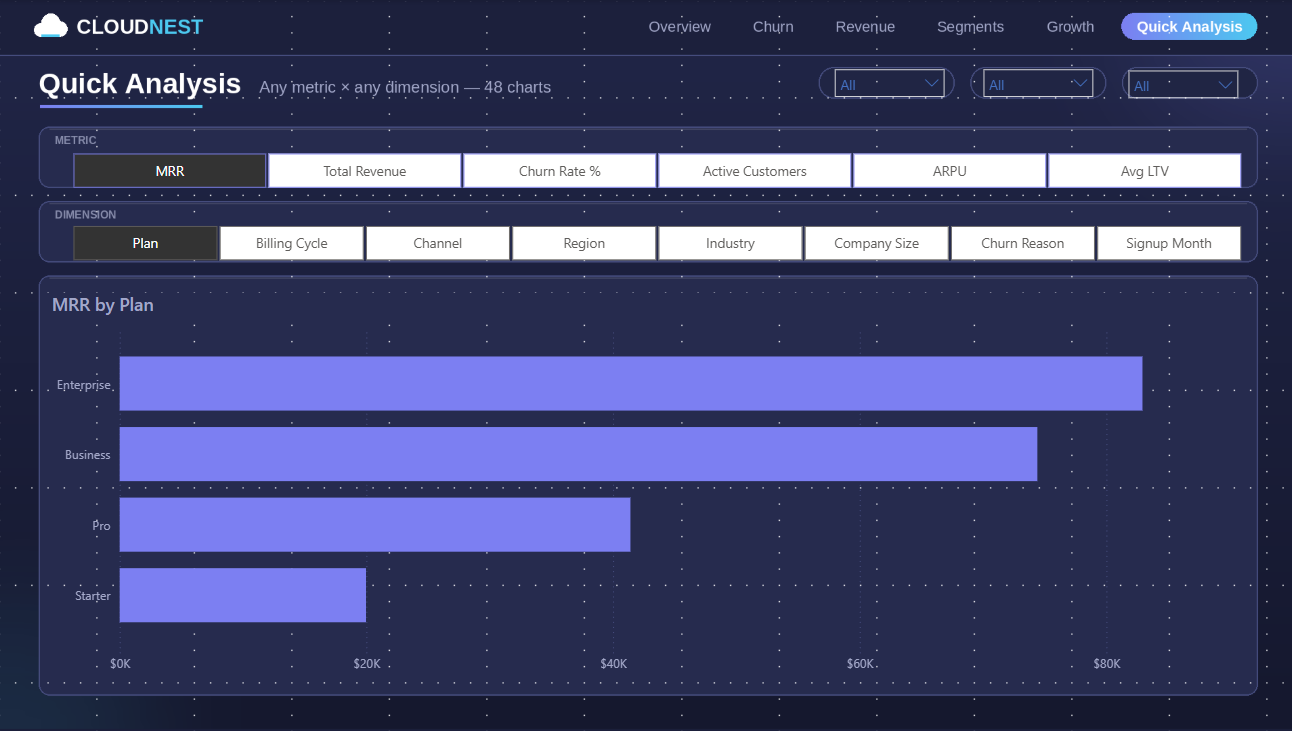

This screenshot's page, from the dashboard's own definition file:
{"tool":"powerbi","page":{"name":"Quick Analysis","canvas":[1280,720],"ordinal":6},"visuals":[{"type":"actionButton","box":[728.9,8.5,80,32],"z":0},{"type":"actionButton","box":[817.9,9.5,80,32],"z":1000},{"type":"actionButton","box":[919.9,9.5,80,32],"z":2000},{"type":"actionButton","box":[632.9,13.5,80,32],"z":3000},{"type":"actionButton","box":[1008,16,96,32],"z":4000},{"type":"slicer","fields":{"Values":["Metric.Metric"]},"box":[48,144,1200,48],"z":5000},{"type":"slicer","fields":{"Values":["Dimension.Dimension"]},"box":[48,215,1200,48],"z":6000},{"type":"clusteredBarChart","fields":{"Category":["plans.plan_name"],"Y":["_Measures.MRR"]},"box":[48,288,1184,384],"z":7000},{"type":"slicer","fields":{"Values":["customers.region"]},"box":[814,58,128,64],"z":8000},{"type":"slicer","fields":{"Values":["customers.industry"]},"box":[960,58,128,64],"z":9000},{"type":"slicer","fields":{"Values":["subscriptions.billing_cycle"]},"box":[1103,59,128,63],"z":10000}]}

Visuals, with their boxes in screenshot pixels (x1, y1, x2, y2), scaled from the page's 1280x720 canvas onto the 1292x731 screenshot:
actionButton: (x1=736, y1=9, x2=816, y2=41)
actionButton: (x1=826, y1=10, x2=906, y2=42)
actionButton: (x1=929, y1=10, x2=1009, y2=42)
actionButton: (x1=639, y1=14, x2=720, y2=46)
actionButton: (x1=1017, y1=16, x2=1114, y2=49)
slicer - Metric.Metric: (x1=48, y1=146, x2=1260, y2=195)
slicer - Dimension.Dimension: (x1=48, y1=218, x2=1260, y2=267)
clusteredBarChart - plans.plan_name x _Measures.MRR: (x1=48, y1=292, x2=1244, y2=682)
slicer - customers.region: (x1=822, y1=59, x2=951, y2=124)
slicer - customers.industry: (x1=969, y1=59, x2=1098, y2=124)
slicer - subscriptions.billing_cycle: (x1=1113, y1=60, x2=1243, y2=124)
